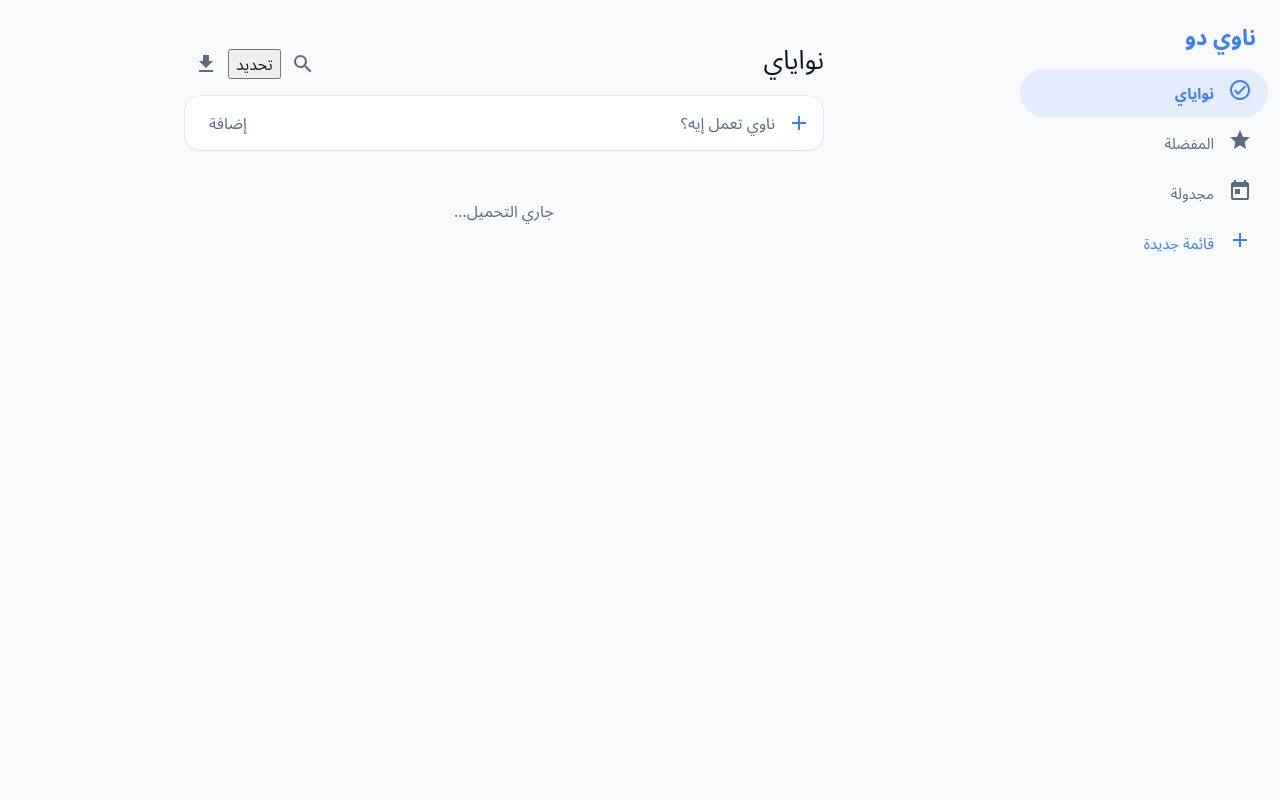
Test: بياناتي › exports a download named after today
The width and height of the screenshot is (1280, 800).
expect the text "جاري التحميل…" is shown: met, box [454, 200, 554, 222]
Click the button named "بياناتي": (206, 64) [184, 42, 228, 86]
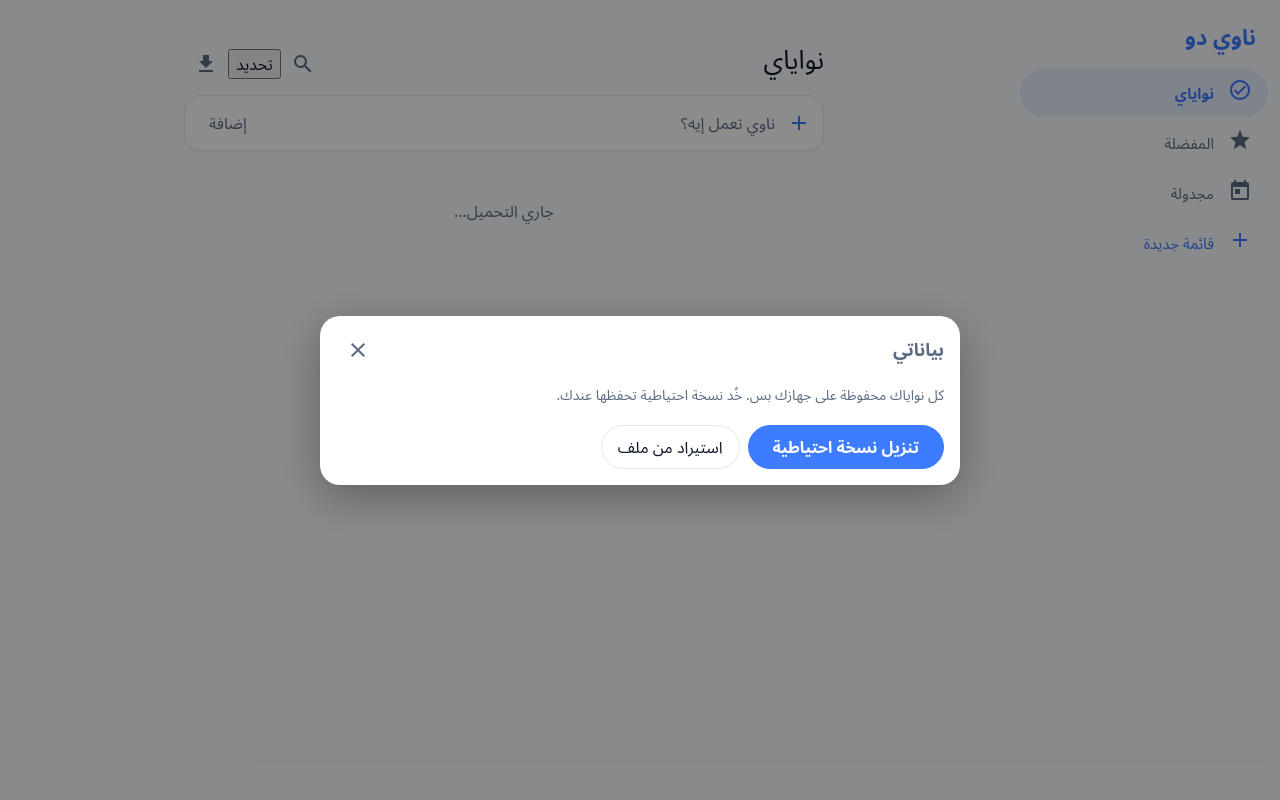
Click the button "تنزيل نسخة احتياطية": (846, 446) [748, 424, 944, 468]
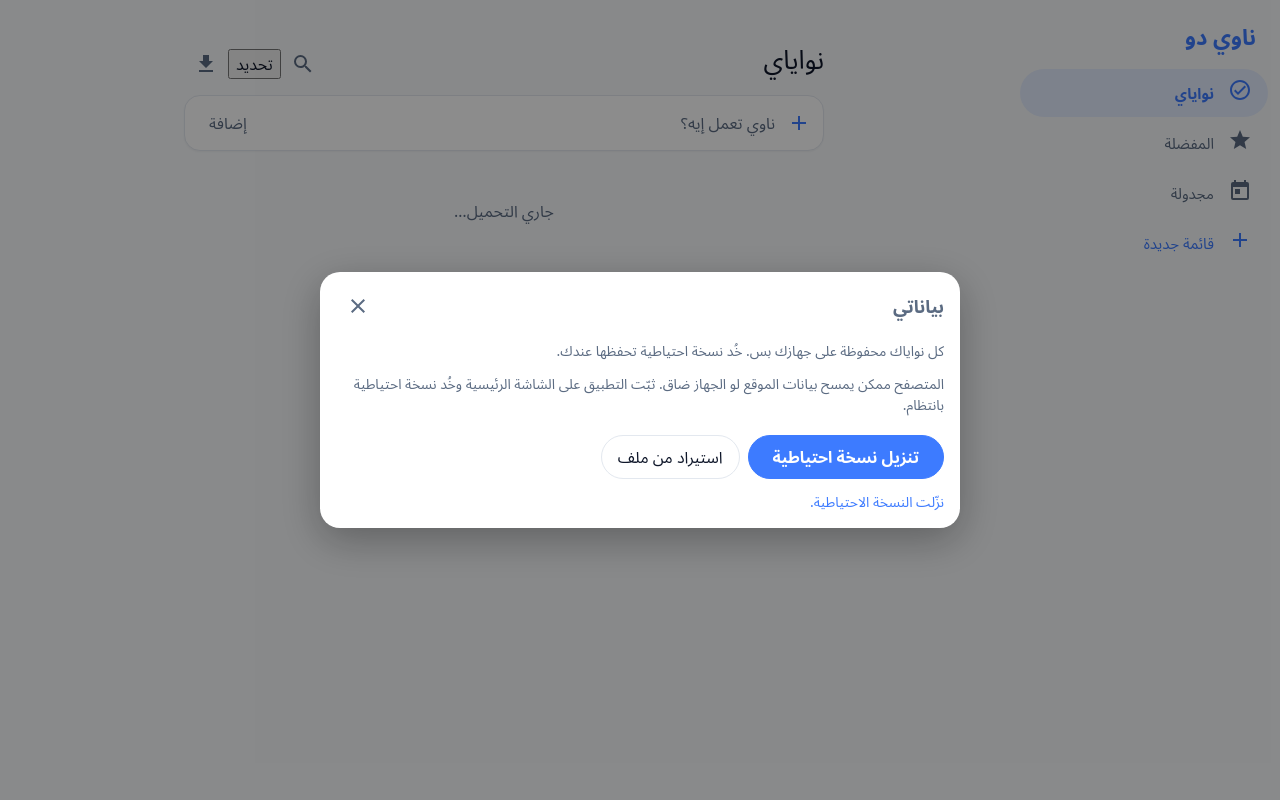
expect the text "نزّلت النسخة الاحتياطية." is shown: met, box [810, 492, 944, 511]
